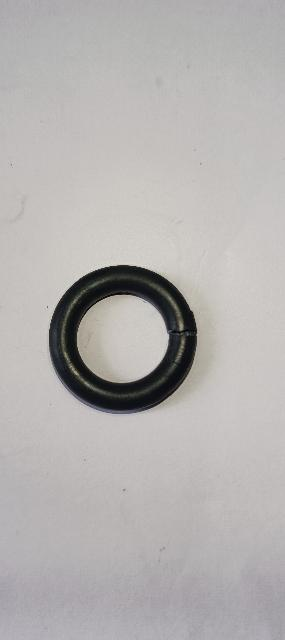scratch: (161, 351, 193, 377), (163, 324, 197, 342)
